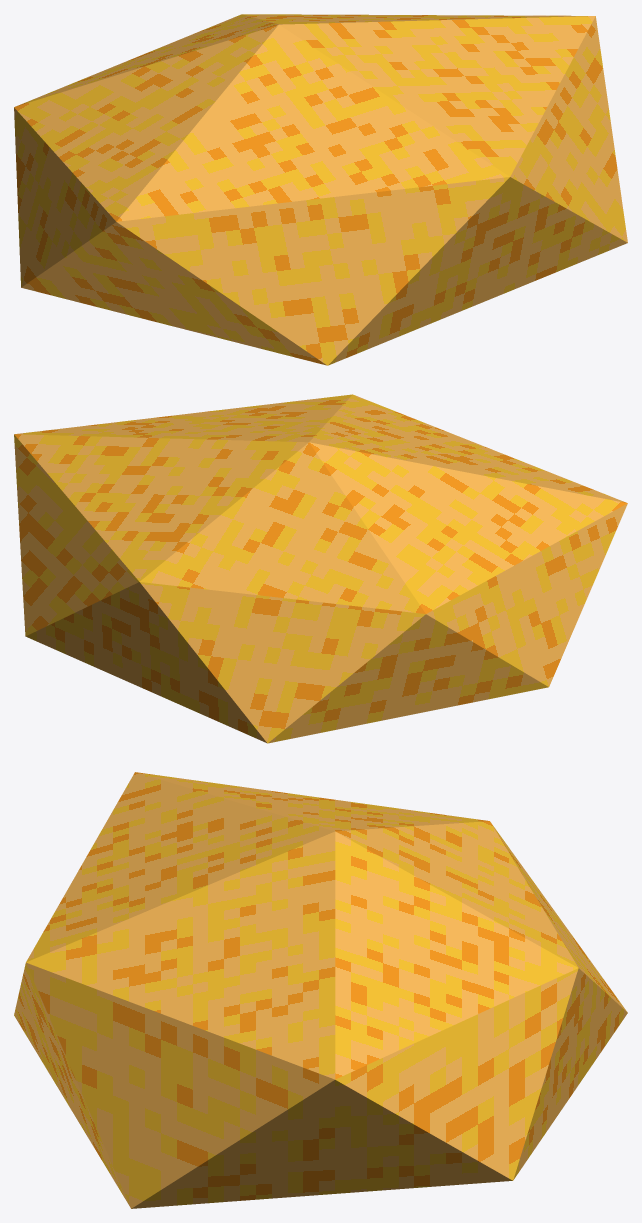
The model's file is a31_duna_3.glb.
The picture shows the model from 3 angles, top to bottom: view 1: azimuth 30°, elevation 25°; view 2: azimuth 150°, elevation 25°; view 3: azimuth 270°, elevation 25°; orthographic projection. The views are drawn at different scales.
Parts seen in each view (by area): view 1: a31_duna_3; view 2: a31_duna_3; view 3: a31_duna_3.
Boxes of the visible parts, x1,y1,x2,y2 form: a31_duna_3: (14, 14, 627, 365); a31_duna_3: (14, 394, 627, 743); a31_duna_3: (14, 772, 627, 1208).
Bounding box in the file's own units: 2.91 × 1.29 × 2.42.
Materials: 1 (1 with a texture image).
